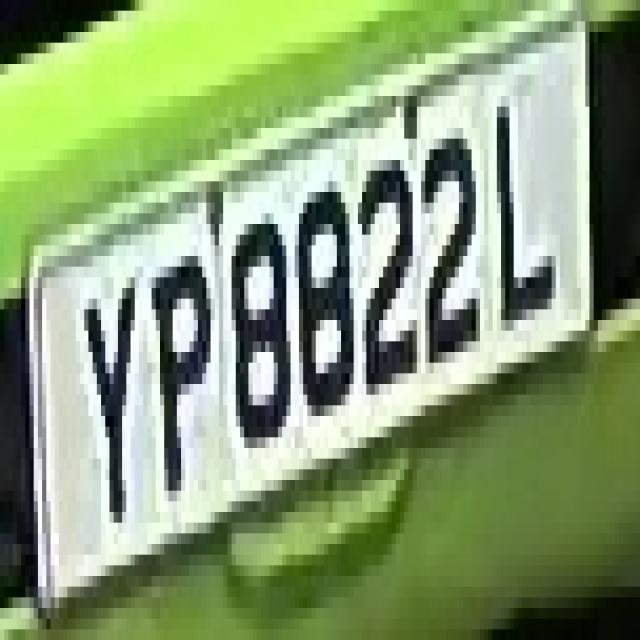2: (346, 149, 426, 427), (425, 106, 484, 426)
8: (282, 160, 366, 437), (228, 214, 290, 502)
L: (484, 96, 564, 341)
P: (139, 224, 210, 523)
Y: (72, 235, 143, 576)
